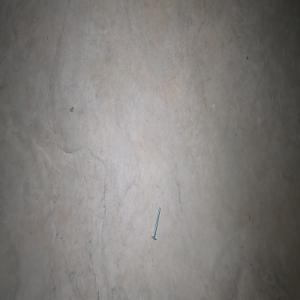Bolt: (151, 205, 160, 240)
